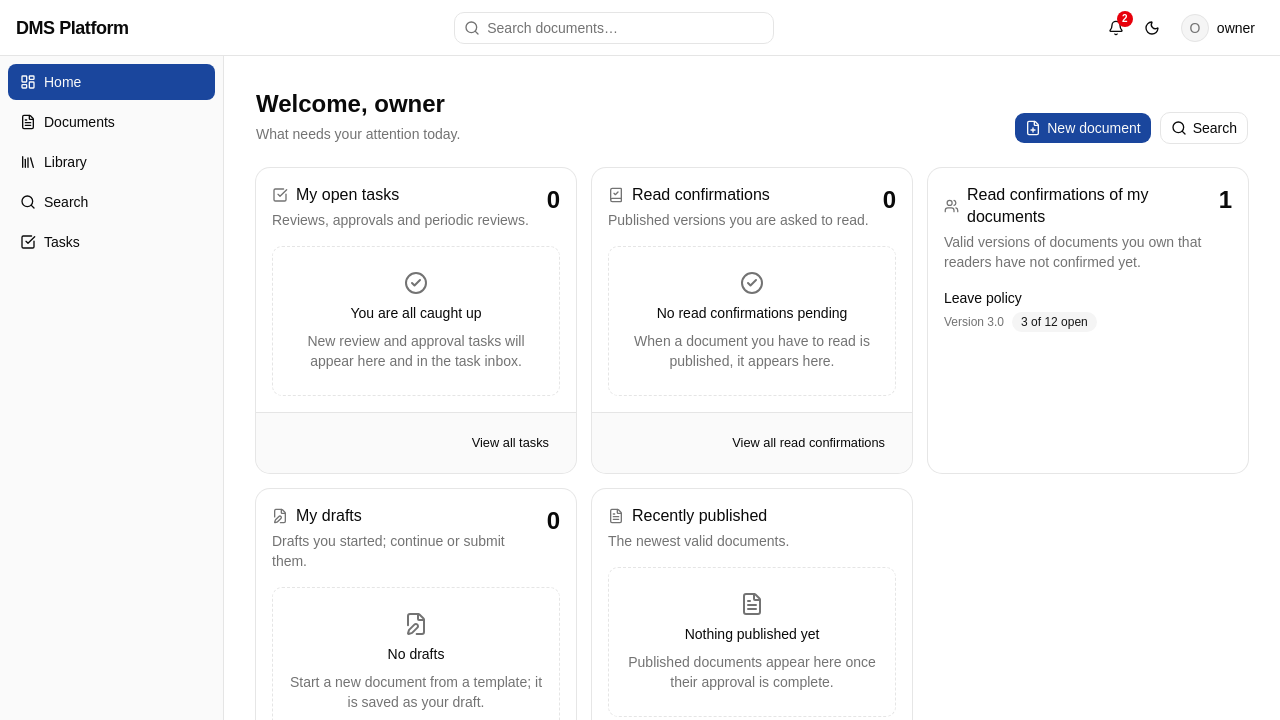
Test case: notification bell (DMS-130) › marks all as read from the menu
The width and height of the screenshot is (1280, 720).
Click the button named "Notifications, 2 unread" at point(1116, 28), box [1100, 12, 1132, 44]
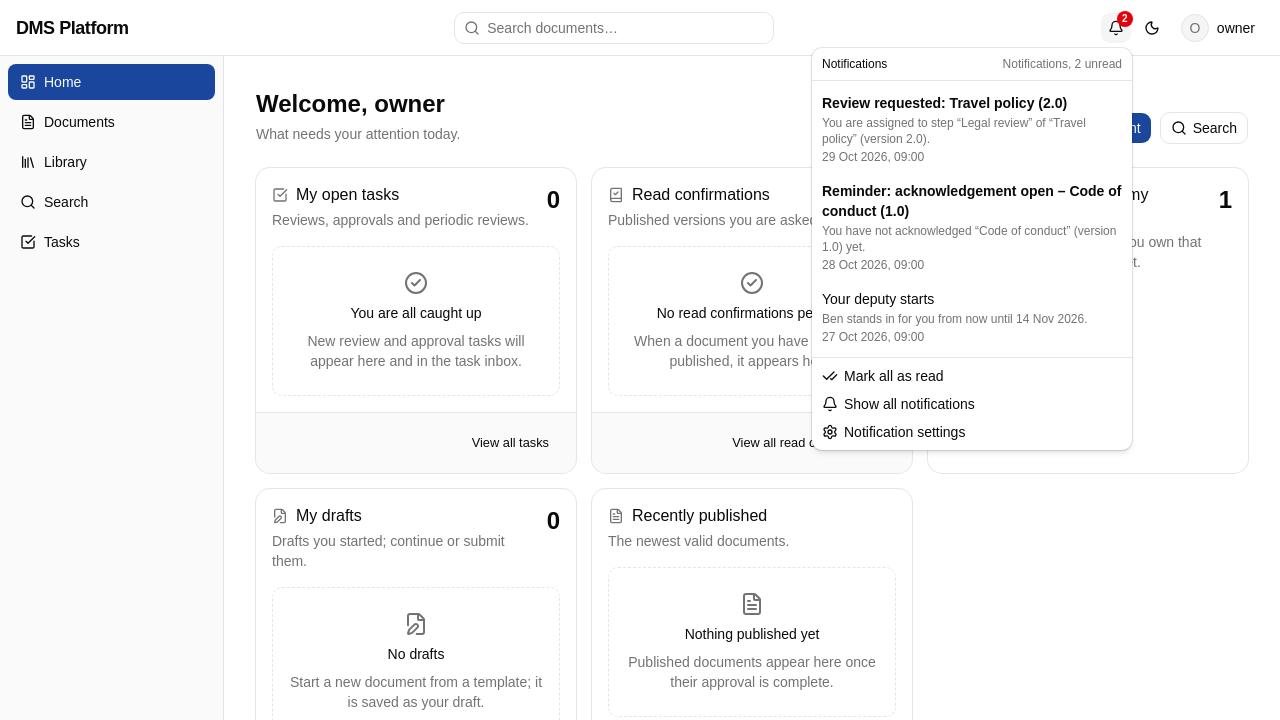
Click the menu item "Mark all as read" at point(883, 376), box [822, 368, 944, 384]
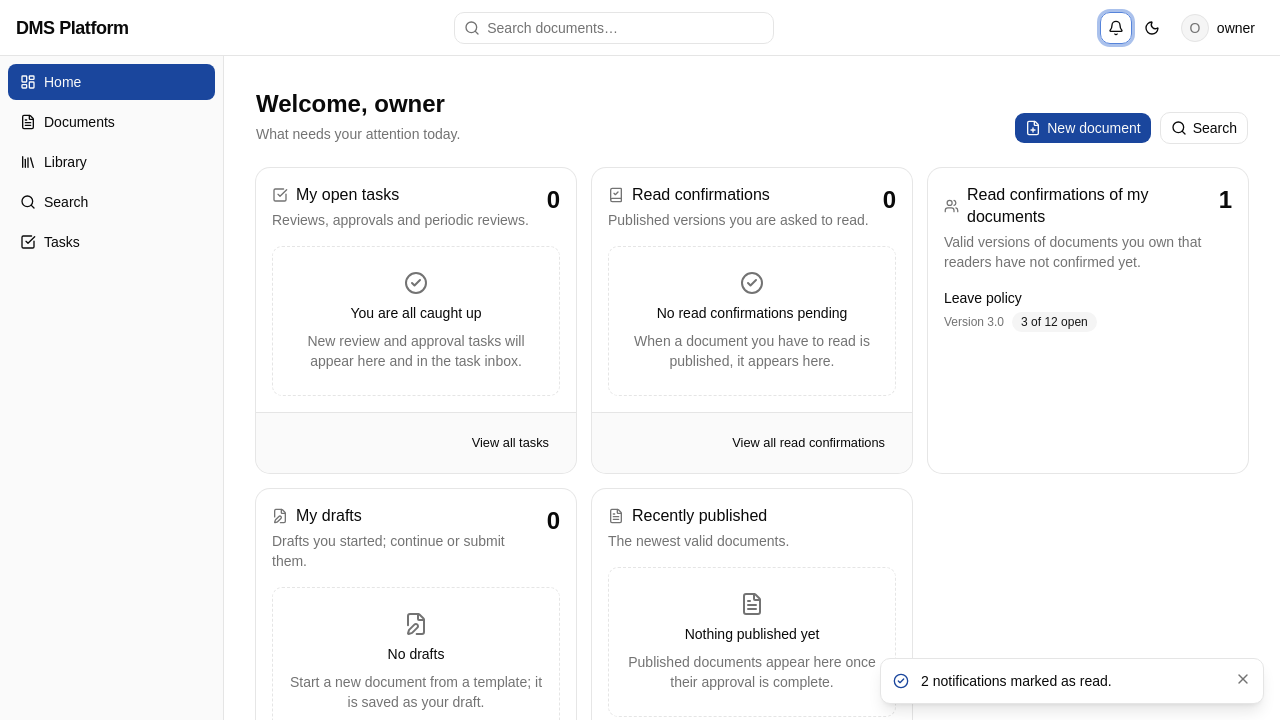
expect the button named "Notifications" is shown: met, box [1100, 12, 1132, 44]
expect the text "2 notifications marked as read." is shown: met, box [921, 673, 1112, 689]
